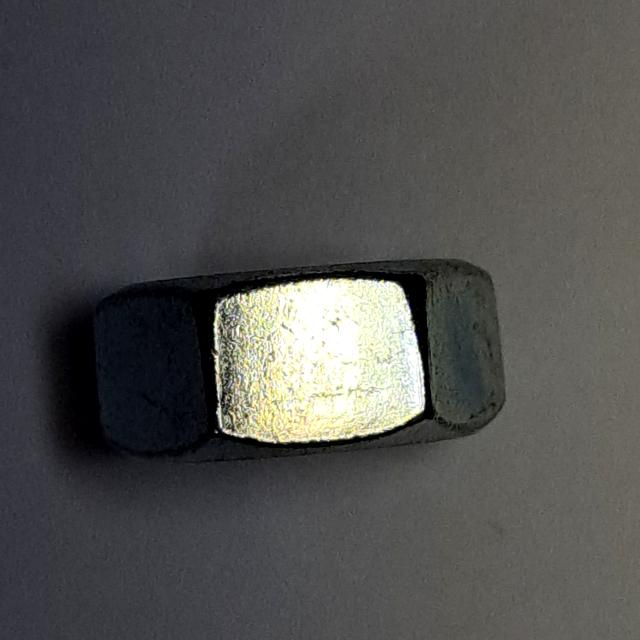Side_Excellent: (83, 239, 517, 480)
